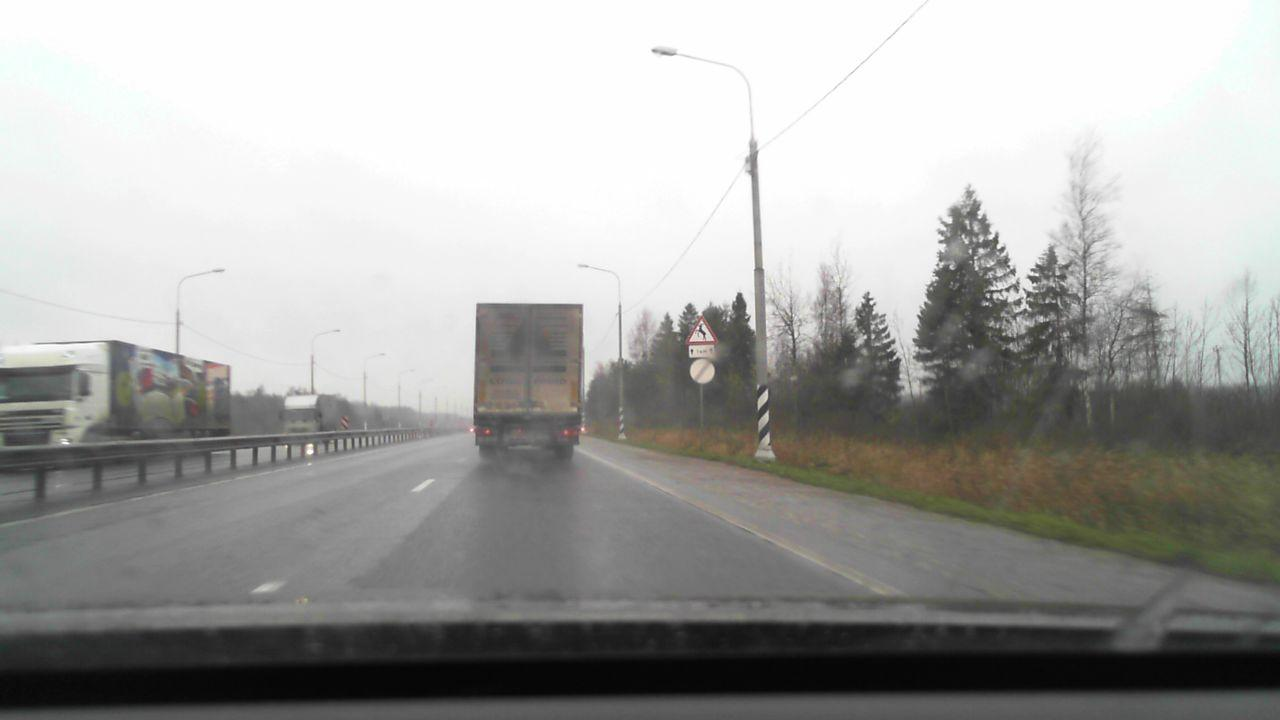1_27: (685, 315, 719, 343)
3_31: (688, 359, 715, 384)
8_2_1: (688, 345, 717, 357)
